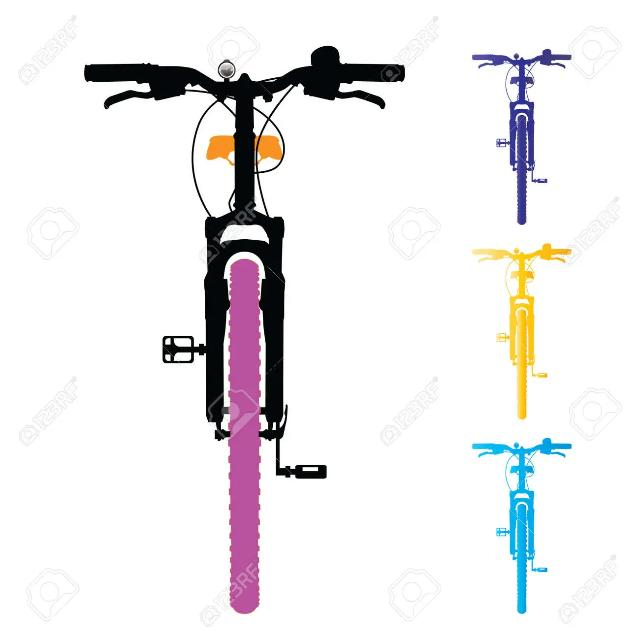obstacle: (73, 19, 427, 614), (442, 29, 618, 222), (465, 228, 587, 432), (468, 429, 586, 623)
